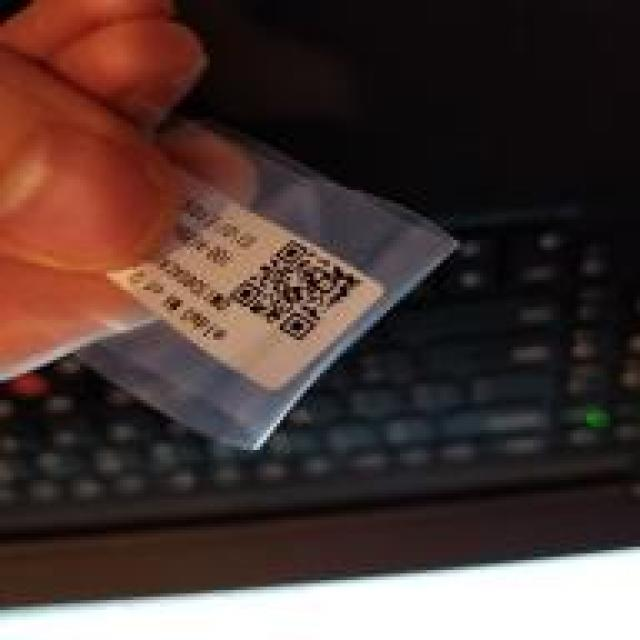QR_CODE: (220, 233, 373, 350)
